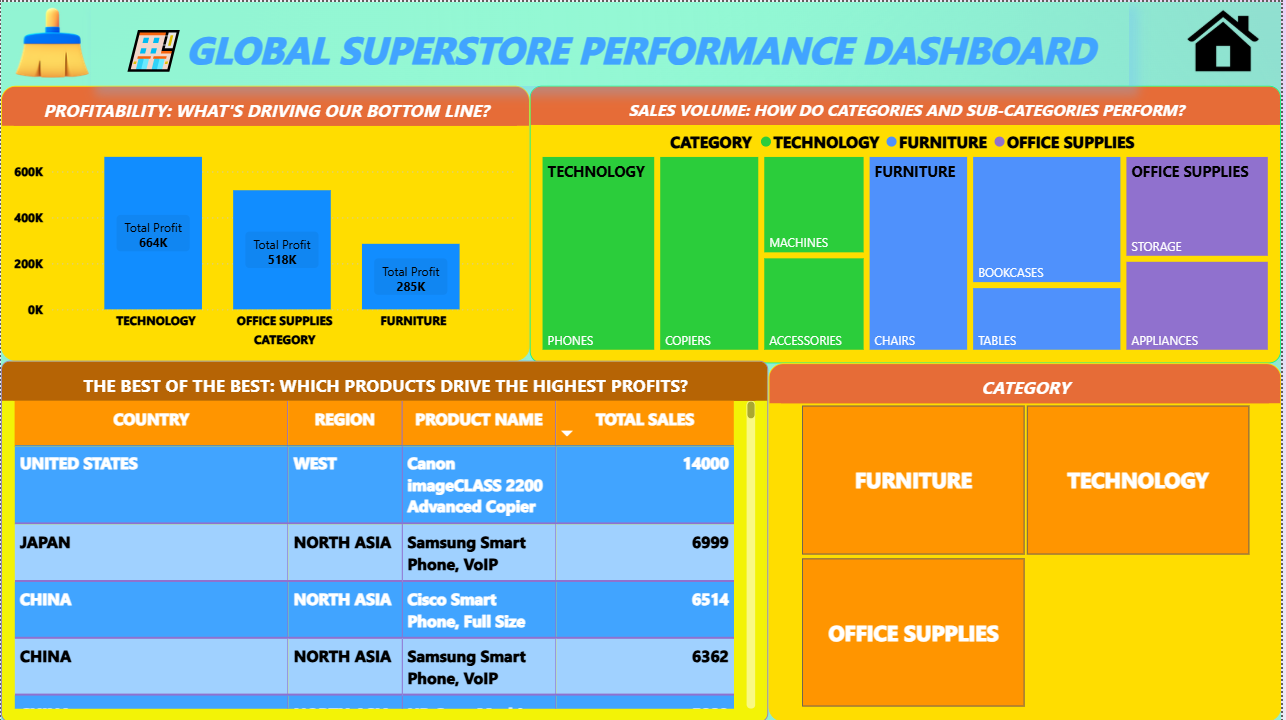

The page's visual inventory and layout, read from the dashboard file:
{"tool":"powerbi","page":{"name":"PRODUCT & CATEGORY ANALYSIS","canvas":[1280,720],"ordinal":1},"visuals":[{"type":"clusteredColumnChart","title":"PROFITABILITY: WHAT''S DRIVING OUR BOTTOM LINE?","fields":{"Category":["Orders.Category"],"Y":["Orders.Total Profit"]},"box":[0,83.8,528.8,275],"z":0},{"type":"treemap","title":"SALES VOLUME: HOW DO CATEGORIES AND SUB-CATEGORIES PERFORM?","fields":{"Group":["Orders.Category"],"Details":["Orders.Sub-Category"],"Values":["Orders.Total Sales"]},"box":[528.8,83.8,751.2,277.5],"z":1000},{"type":"tableEx","title":"THE BEST OF THE BEST: WHICH PRODUCTS DRIVE THE HIGHEST PROFITS?","fields":{"Values":["Orders.Country","Orders.Region","Orders.Product Name","Orders.Total Sales"]},"box":[0,358.8,767.5,361.2],"z":2000},{"type":"slicer","title":"CATEGORY","fields":{"Values":["Orders.Category"]},"box":[767.5,361.2,512.5,358.8],"z":3000},{"type":"image","box":[1163.8,0,116.2,83.8],"z":4000},{"type":"image","box":[0,0,102.5,83.8],"z":5000},{"type":"textbox","box":[90,0,1037.5,83.8],"z":6000}]}

Visuals, with their boxes in screenshot pixels (x1, y1, x2, y2), scaled from the page's 1280x720 canvas onto the 1286x720 screenshot:
"PROFITABILITY: WHAT''S DRIVING OUR BOTTOM LINE?" clusteredColumnChart: pyautogui.locateOnScreen(0, 84, 531, 359)
"SALES VOLUME: HOW DO CATEGORIES AND SUB-CATEGORIES PERFORM?" treemap: pyautogui.locateOnScreen(531, 84, 1285, 361)
"THE BEST OF THE BEST: WHICH PRODUCTS DRIVE THE HIGHEST PROFITS?" tableEx: pyautogui.locateOnScreen(0, 359, 771, 719)
"CATEGORY" slicer: pyautogui.locateOnScreen(771, 361, 1285, 719)
image: pyautogui.locateOnScreen(1169, 0, 1285, 84)
image: pyautogui.locateOnScreen(0, 0, 103, 84)
textbox: pyautogui.locateOnScreen(90, 0, 1133, 84)
